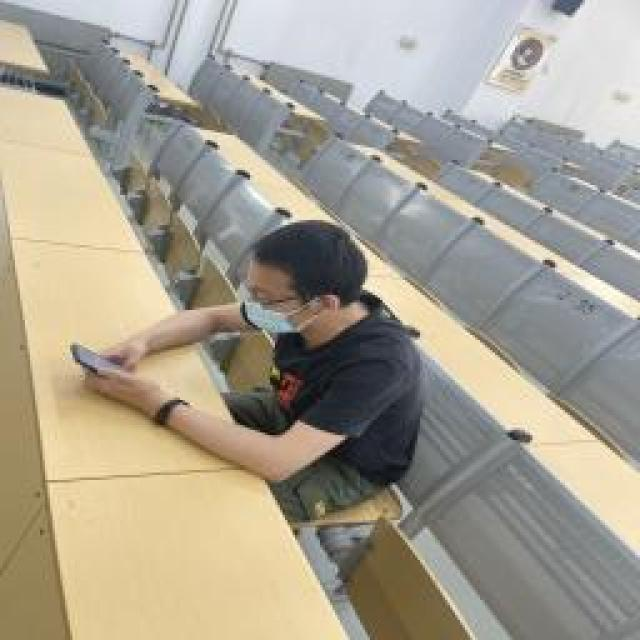phone: (70, 220, 425, 482)
